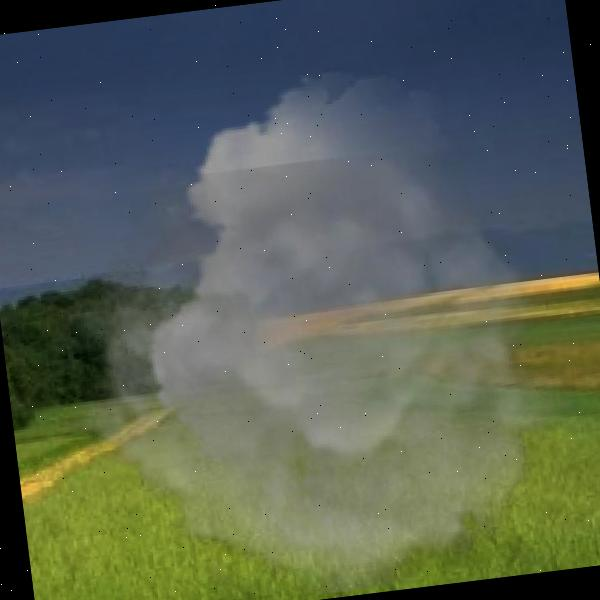smoke: (24, 47, 600, 600)
